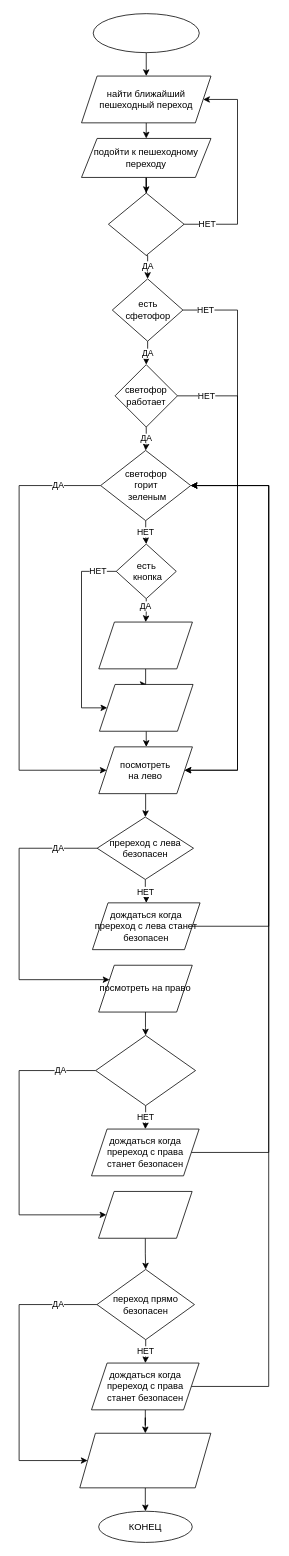
Some shapes in this 289 by 1556 pixel diagram are drawn without their labels. The shapes that lost their labels are listed below. From the top down, each one's centre as x and y in pixels, then its label:
the point at 145,33: НАЧАЛО
the point at 146,223: переход возможен
the point at 145,645: нажать кнопку
the point at 146,707: дождаться зеленого света
the point at 145,1070: переход с право безопасен
the point at 145,1214: посмотреть прямо
the point at 145,1460: благополучно перейти дорогу по пешеходному переходу
